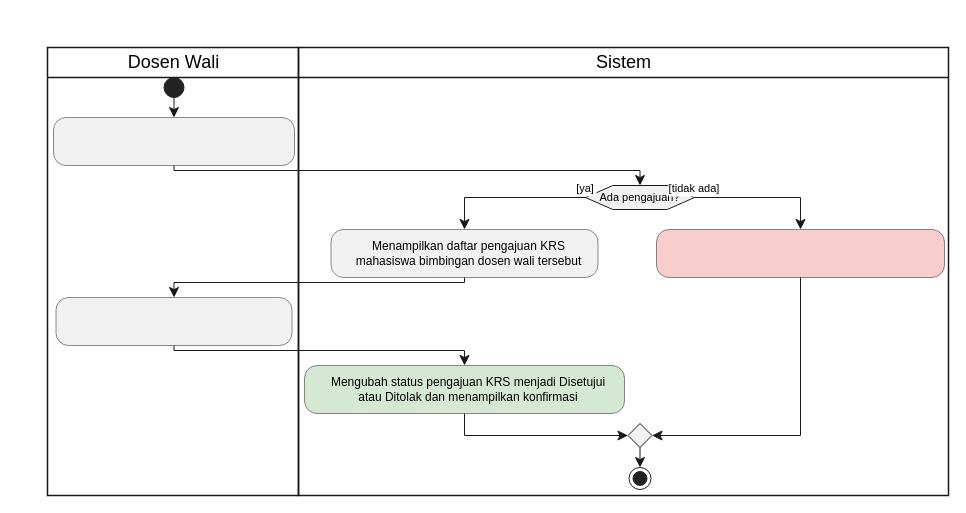
Image size: 966x513. Some labels were removed from this diagram. The shapes that lost their labels are listed below. From the top down, each one's centre as x and y in pixels, then its label:
At (x=173, y=141): "Membuka daftar pengajuan KRS yang berstatus Menunggu Keputusan".
At (x=800, y=253): "Menampilkan pesan tidak ada pengajuan KRS yang dapat diproses".
At (x=173, y=321): "Memilih pengajuan dan menetapkan persetujuan atau penolakan".
